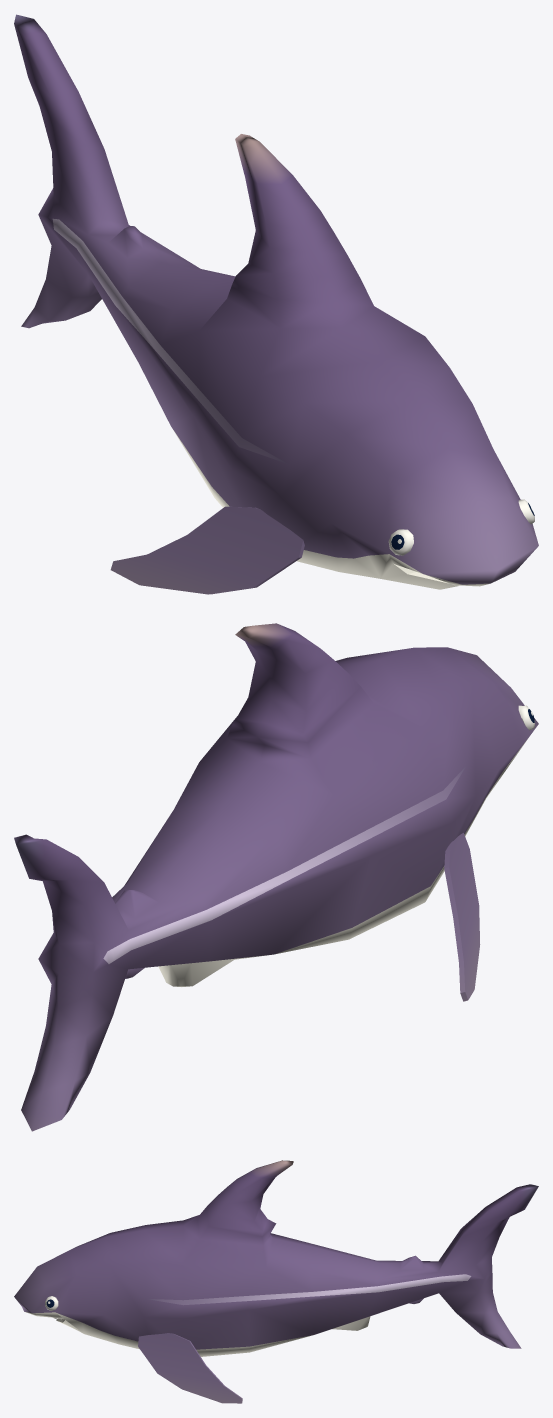
3 views of the same model, one above another, from view 1: azimuth 30°, elevation 25°; view 2: azimuth 150°, elevation 25°; view 3: azimuth 270°, elevation 25° (orthographic). The views are drawn at different scales.
Visible parts, largest first — view 1: Fish_Megalodon; view 2: Fish_Megalodon; view 3: Fish_Megalodon.
Boxes of the visible parts, bbox=[...] form: Fish_Megalodon: bbox=[14, 14, 538, 594]; Fish_Megalodon: bbox=[14, 623, 538, 1131]; Fish_Megalodon: bbox=[14, 1160, 538, 1403].
Size of the model in its own units: 113 by 110 by 263.
